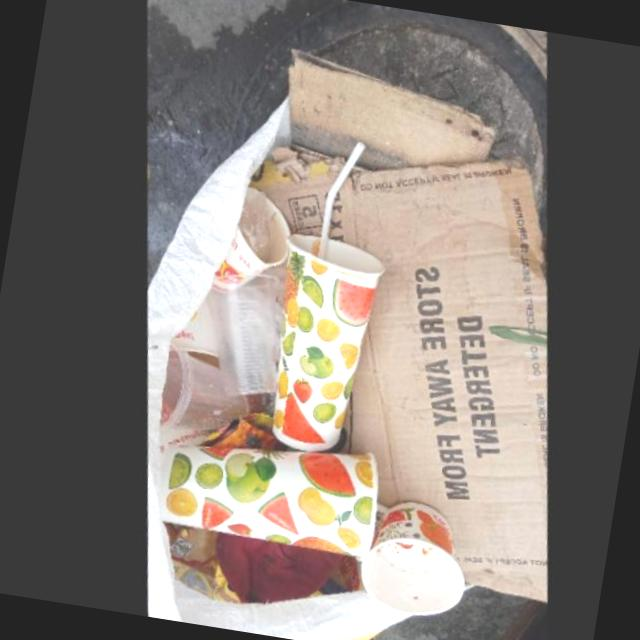carton: (325, 154, 542, 600), (154, 434, 369, 554), (286, 43, 493, 163), (264, 231, 378, 444), (350, 499, 455, 608), (207, 178, 287, 282), (250, 145, 338, 226), (164, 288, 213, 360)
hop_nhua: (151, 337, 254, 424), (207, 269, 273, 387)
ong_hut_nhua: (313, 136, 362, 253)
